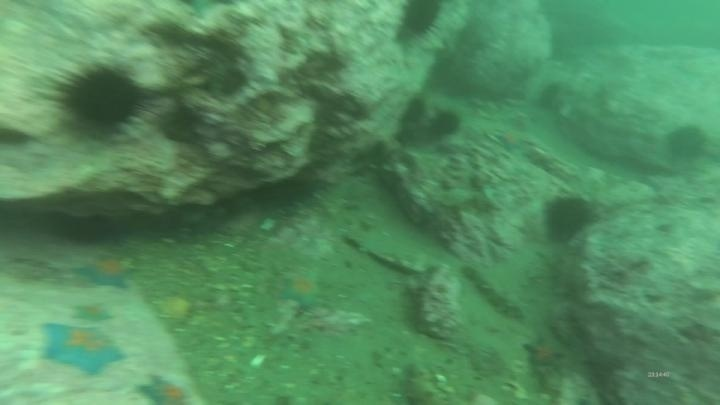echinus: (49, 59, 151, 143), (540, 192, 596, 245), (663, 122, 711, 165), (397, 0, 444, 41), (426, 107, 464, 141)
holothurian: (463, 263, 528, 323)
starfish: (37, 320, 128, 379), (71, 254, 138, 293), (276, 269, 328, 312), (135, 372, 199, 404), (521, 332, 568, 372), (492, 122, 533, 155), (70, 299, 117, 326)
